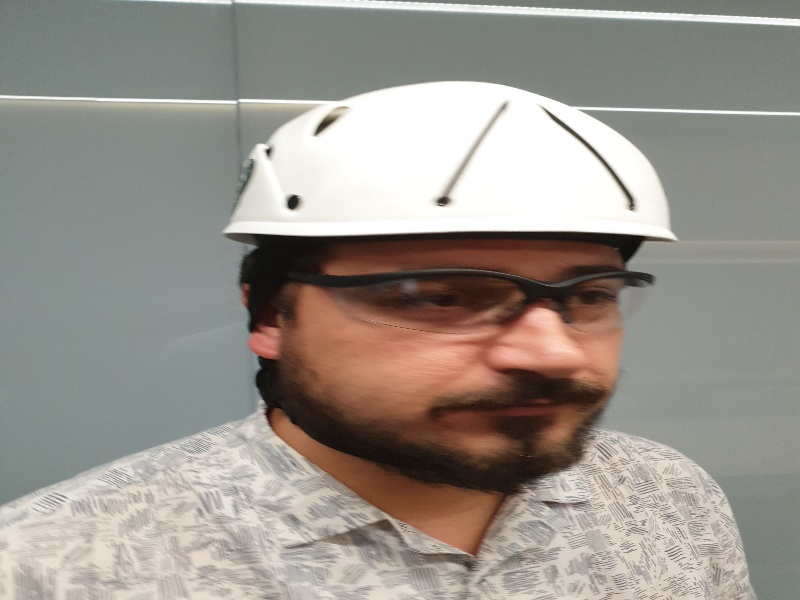Baret: (230, 82, 675, 243)
Gozluk: (271, 270, 655, 338)
